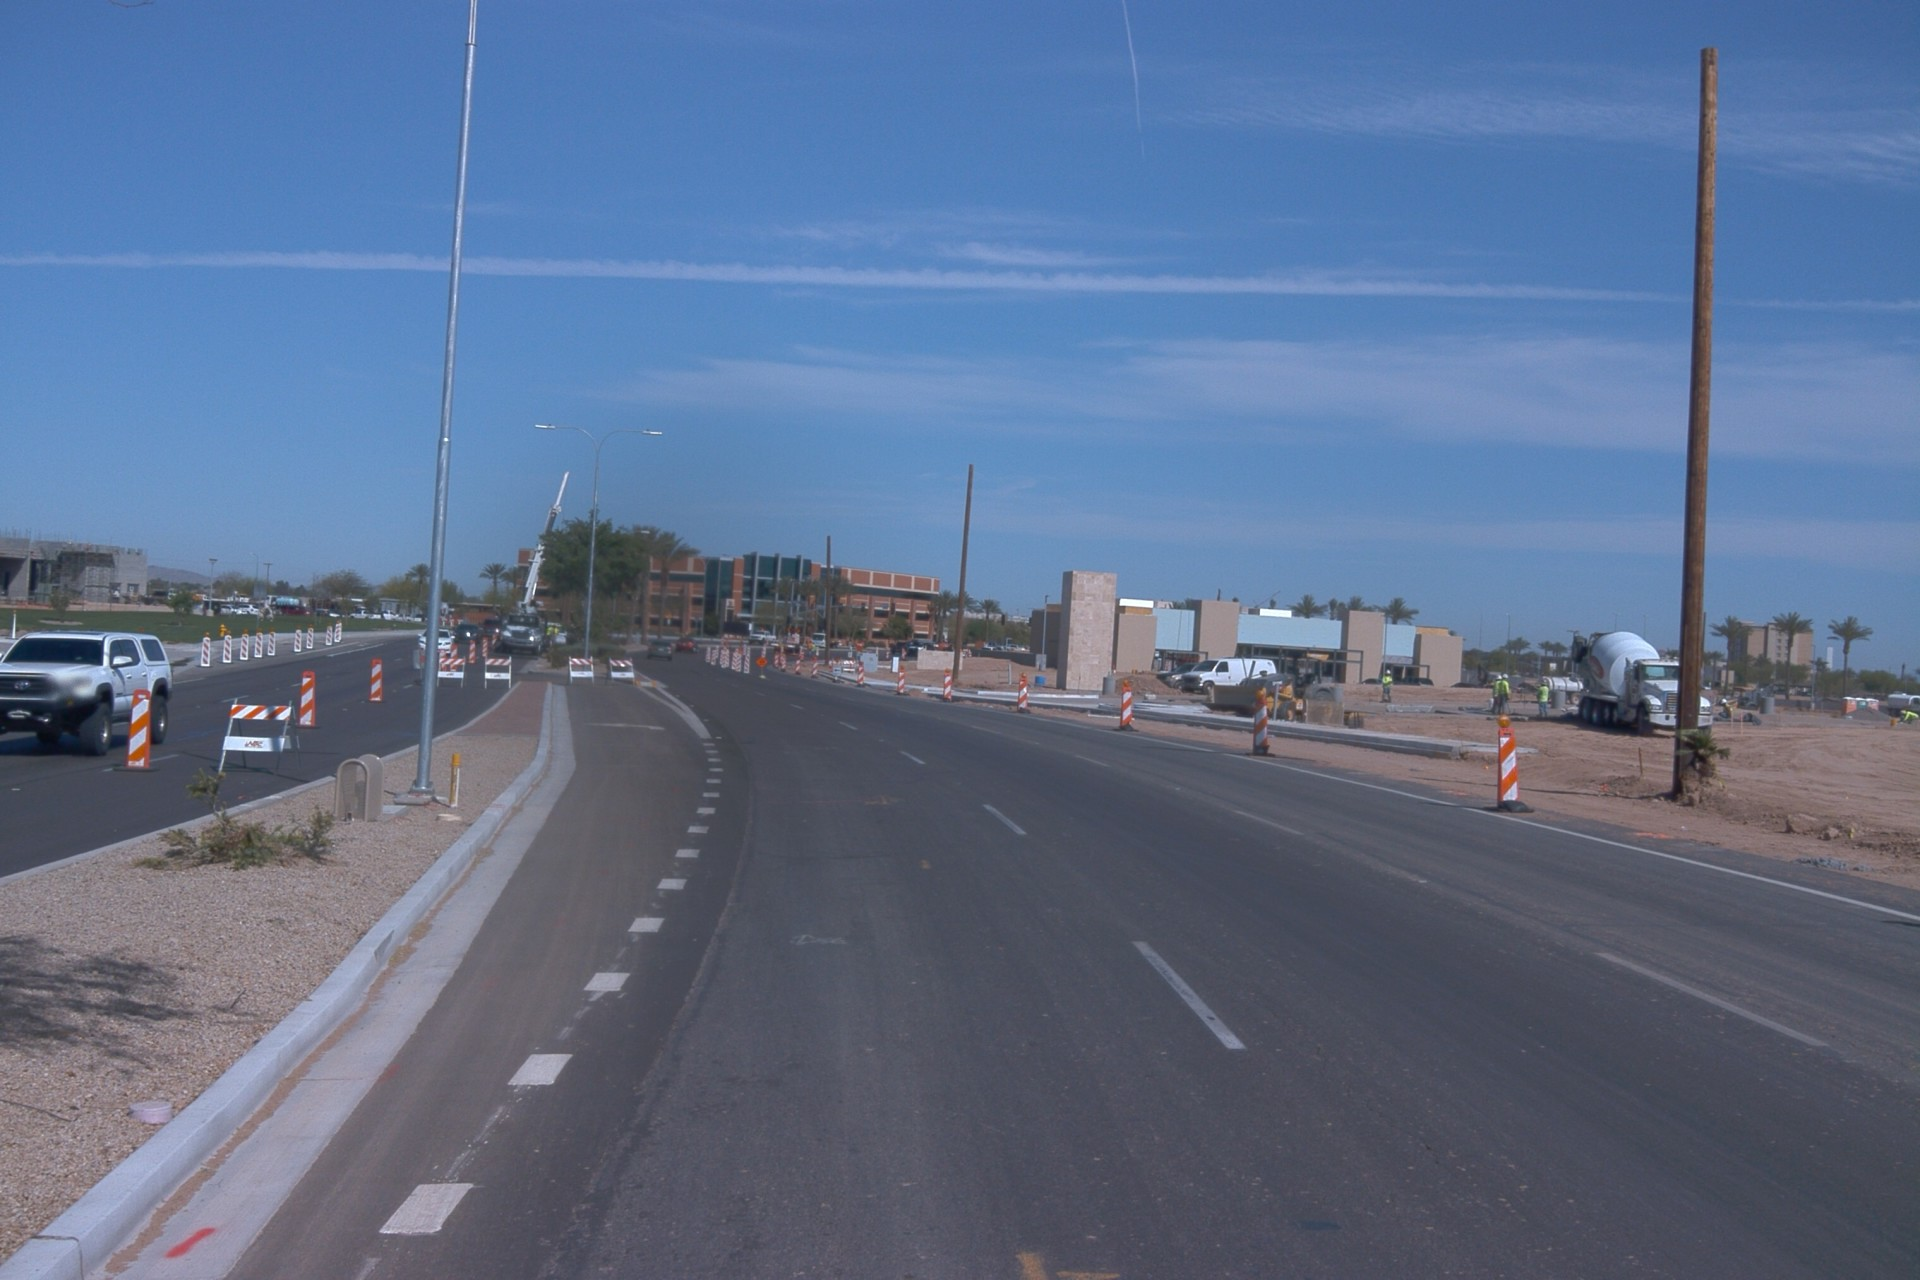TYPE_PEDESTRIAN: (1497, 673, 1512, 716), (1490, 674, 1504, 716), (1536, 680, 1550, 722), (1717, 696, 1733, 723), (1381, 669, 1393, 704), (546, 623, 555, 642), (551, 623, 560, 637), (811, 642, 818, 657)
TYPE_VEHICLE: (1, 630, 176, 756), (485, 466, 571, 658), (1179, 660, 1281, 698), (1717, 683, 1778, 717), (716, 620, 752, 671), (1540, 675, 1589, 708), (1155, 663, 1197, 694), (768, 630, 816, 656), (1884, 689, 1920, 722), (905, 633, 948, 660), (420, 627, 456, 656), (808, 629, 846, 654), (141, 586, 180, 605), (474, 616, 501, 643), (279, 602, 318, 620), (644, 639, 673, 663), (451, 623, 483, 642), (673, 636, 700, 656), (745, 630, 778, 646), (201, 597, 225, 619), (217, 603, 249, 617), (352, 607, 384, 620), (1399, 676, 1434, 687), (233, 603, 261, 616), (1514, 679, 1535, 694), (1360, 677, 1384, 686), (268, 606, 285, 618), (1448, 682, 1477, 688)
